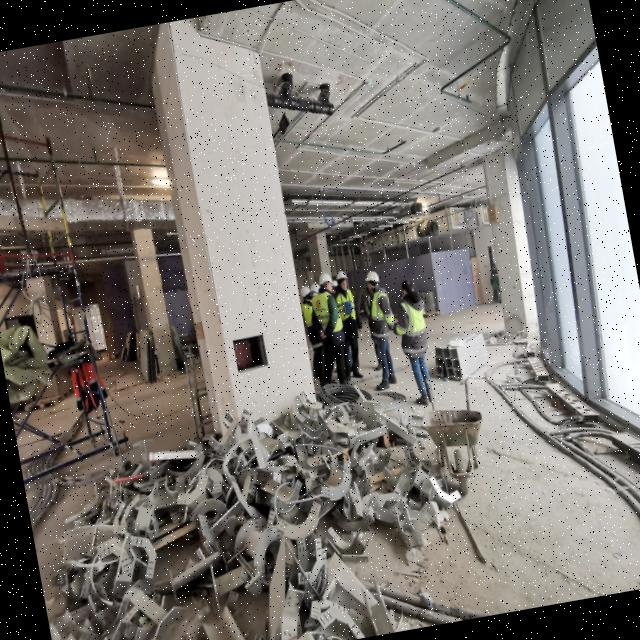Helmet: (318, 273, 336, 297), (365, 271, 383, 294), (336, 270, 351, 292), (300, 286, 313, 301), (310, 283, 322, 296), (332, 280, 340, 290)
NoHelmet: (400, 280, 415, 298)
